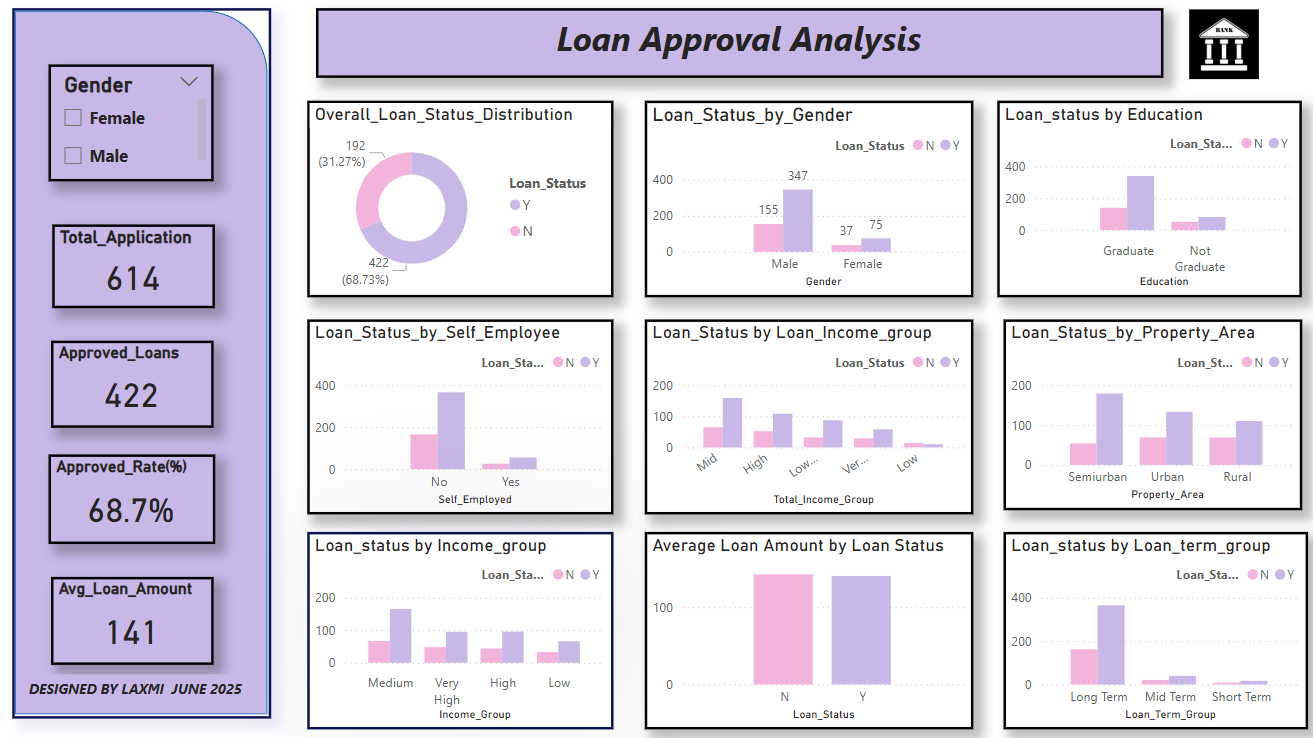

This screenshot's page, from the dashboard's own definition file:
{"tool":"powerbi","page":{"name":"Page 1","canvas":[1280,720],"ordinal":0},"visuals":[{"type":"donutChart","title":"Overall_Loan_Status_Distribution","fields":{"Y":["CountNonNull(FINANCE_clean_data.Loan_ID)"],"Category":["FINANCE_clean_data.Loan_Status"]},"box":[304.6,101.5,295,189.4],"z":1},{"type":"clusteredColumnChart","title":"Loan_Status_by_Gender","fields":{"Category":["FINANCE_clean_data.Gender"],"Series":["FINANCE_clean_data.Loan_Status"],"Y":["CountNonNull(FINANCE_clean_data.Loan_ID)"]},"box":[629.8,101.5,317,189.4],"z":2},{"type":"clusteredColumnChart","title":"Loan_Status_by_Self_Employee","fields":{"Category":["FINANCE_clean_data.Self_Employed"],"Y":["CountNonNull(FINANCE_clean_data.Loan_ID)"],"Series":["FINANCE_clean_data.Loan_Status"]},"box":[304.6,311.5,295,188],"z":3},{"type":"clusteredColumnChart","title":"Loan_status by Education","fields":{"Category":["FINANCE_clean_data.Education"],"Y":["CountNonNull(FINANCE_clean_data.Loan_ID)"],"Series":["FINANCE_clean_data.Loan_Status"]},"box":[970.2,101.5,293.7,189.4],"z":5},{"type":"clusteredColumnChart","title":"Loan_Status_by_Property_Area","fields":{"Category":["FINANCE_clean_data.Property_Area"],"Y":["CountNonNull(FINANCE_clean_data.Loan_ID)"],"Series":["FINANCE_clean_data.Loan_Status"]},"box":[975.6,311.5,288.2,183.9],"z":6},{"type":"clusteredColumnChart","title":"Loan_status by Income_group","fields":{"Series":["FINANCE_clean_data.Loan_Status"],"Y":["CountNonNull(FINANCE_clean_data.Loan_ID)"],"Category":["FINANCE_clean_data.Income_Group"]},"box":[304.6,517.3,295,190.7],"z":7},{"type":"clusteredColumnChart","title":"Loan_Status by Loan_Income_group","fields":{"Category":["FINANCE_clean_data.Total_Income_Group"],"Series":["FINANCE_clean_data.Loan_Status"],"Y":["CountNonNull(FINANCE_clean_data.Loan_ID)"]},"box":[629.8,311.5,317,188],"z":8},{"type":"clusteredColumnChart","title":"Average Loan Amount by Loan Status","fields":{"Category":["FINANCE_clean_data.Loan_Status"],"Y":["Avg(FINANCE_clean_data.LoanAmount)"]},"box":[629.8,517.3,317,190.7],"z":9},{"type":"clusteredColumnChart","title":"Loan_status by Loan_term_group","fields":{"Series":["FINANCE_clean_data.Loan_Status"],"Category":["FINANCE_clean_data.Loan_Term_Group"],"Y":["CountNonNull(FINANCE_clean_data.Loan_ID)"]},"box":[975.6,517.3,293.7,190.7],"z":10},{"type":"shape","box":[20.6,12.3,249.7,684.7],"z":11},{"type":"card","title":"Total_Application","fields":{"Values":["Count(FINANCE_clean_data.Loan_ID)"]},"box":[59,220.9,156.4,81],"z":12},{"type":"card","title":"Approved_Loans","fields":{"Values":["Count(FINANCE_clean_data.Loan_ID)"]},"box":[57.6,332.1,156.4,83.7],"z":14},{"type":"card","title":"Approved_Rate(%)","fields":{"Values":["FINANCE_clean_data.Approval_Rate"]},"box":[54.9,441.9,160.5,86.4],"z":15},{"type":"card","title":"Avg_Loan_Amount","fields":{"Values":["FINANCE_clean_data.Avg_Loan_Amount_Approved"]},"box":[57.6,559.9,156.4,85.1],"z":16},{"type":"slicer","title":"Gender","fields":{"Values":["FINANCE_clean_data.Gender"]},"box":[54.9,65.9,159.2,112.5],"z":17},{"type":"textbox","box":[312.9,12.3,816.5,67.2],"z":18},{"type":"image","box":[1112.9,8.2,150.9,76.8],"z":19},{"type":"textbox","box":[31.6,654.5,223.7,32.9],"z":20}]}

Visuals, with their boxes in screenshot pixels (x1, y1, x2, y2), scaled from the page's 1280x720 canvas onto the 1313x738 screenshot:
"Overall_Loan_Status_Distribution" donutChart: BBox(312, 104, 615, 298)
"Loan_Status_by_Gender" clusteredColumnChart: BBox(646, 104, 971, 298)
"Loan_Status_by_Self_Employee" clusteredColumnChart: BBox(312, 319, 615, 512)
"Loan_status by Education" clusteredColumnChart: BBox(995, 104, 1296, 298)
"Loan_Status_by_Property_Area" clusteredColumnChart: BBox(1001, 319, 1296, 508)
"Loan_status by Income_group" clusteredColumnChart: BBox(312, 530, 615, 726)
"Loan_Status by Loan_Income_group" clusteredColumnChart: BBox(646, 319, 971, 512)
"Average Loan Amount by Loan Status" clusteredColumnChart: BBox(646, 530, 971, 726)
"Loan_status by Loan_term_group" clusteredColumnChart: BBox(1001, 530, 1302, 726)
shape: BBox(21, 13, 277, 714)
"Total_Application" card: BBox(61, 226, 221, 309)
"Approved_Loans" card: BBox(59, 340, 220, 426)
"Approved_Rate(%)" card: BBox(56, 453, 221, 542)
"Avg_Loan_Amount" card: BBox(59, 574, 220, 661)
"Gender" slicer: BBox(56, 68, 220, 183)
textbox: BBox(321, 13, 1159, 81)
image: BBox(1142, 8, 1296, 87)
textbox: BBox(32, 671, 262, 705)
